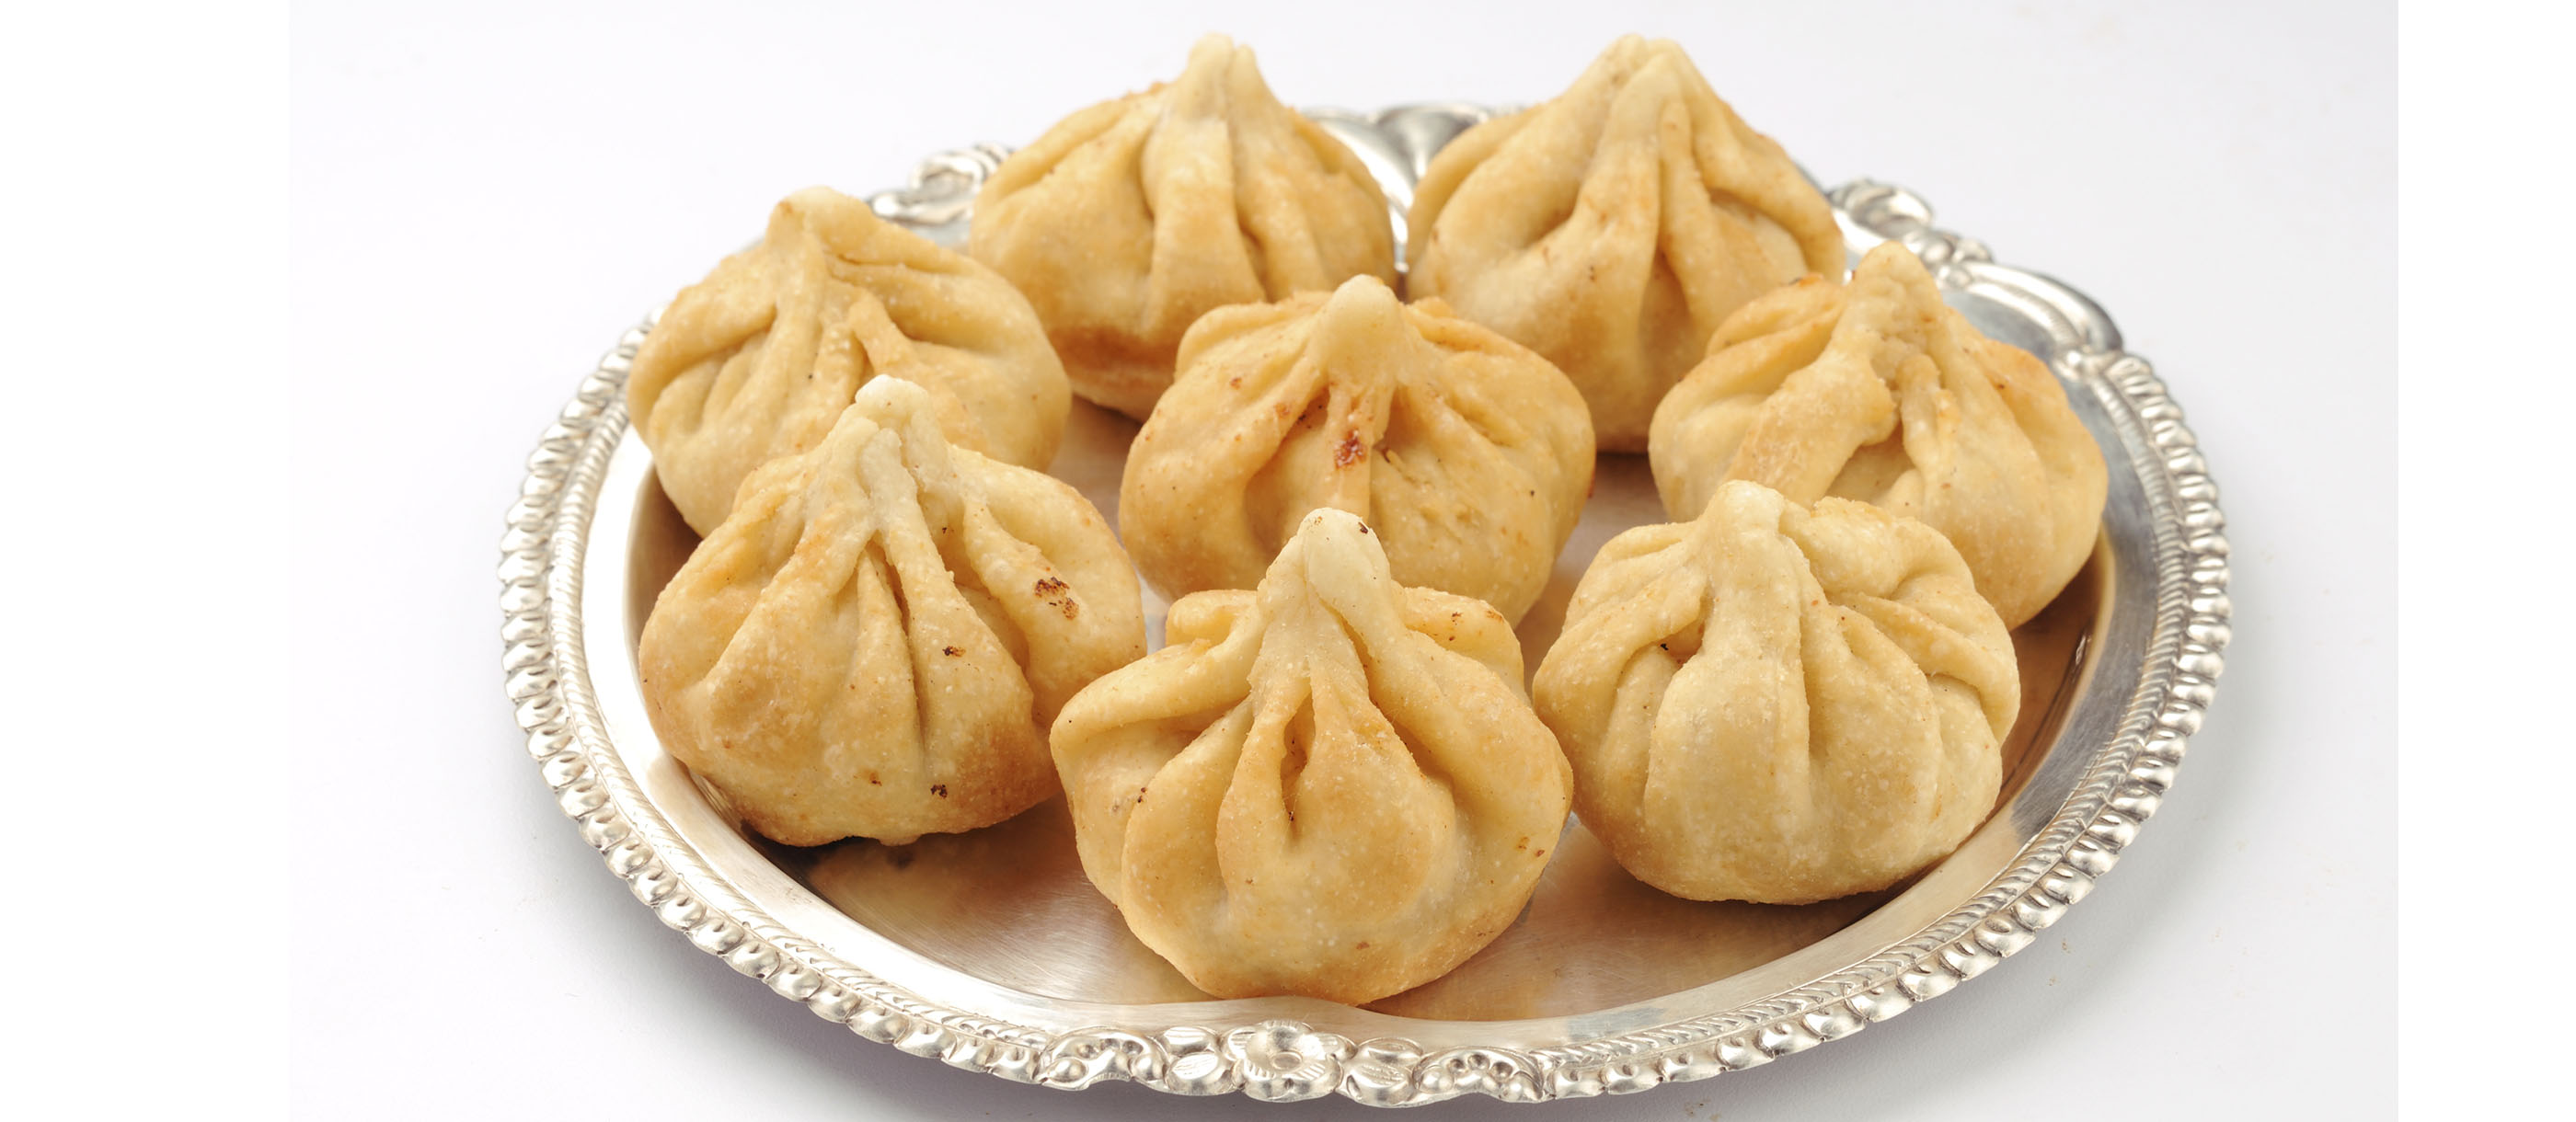modak: (1056, 513, 1605, 982), (1525, 434, 2065, 910), (646, 381, 1199, 803), (1692, 278, 2169, 618), (1419, 76, 1855, 430), (1157, 278, 1603, 593), (713, 192, 1081, 501), (1022, 76, 1390, 379)
